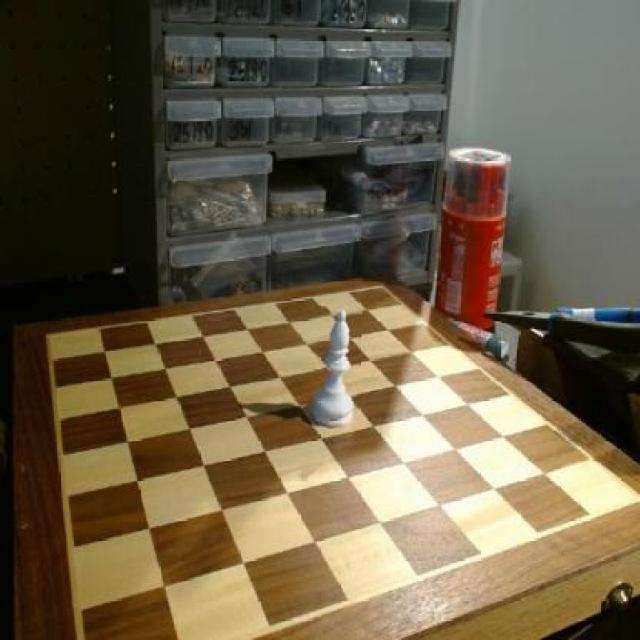black-rook: (314, 308, 361, 432)
